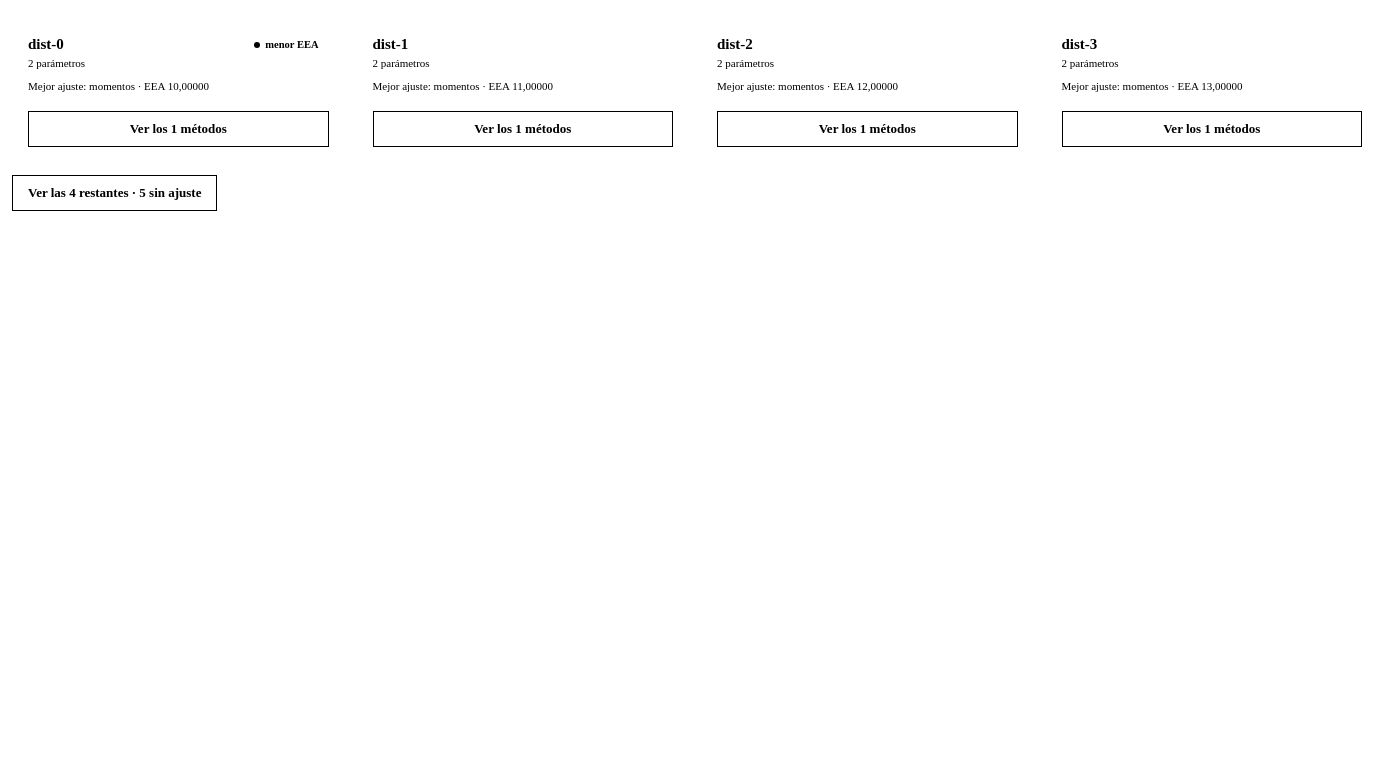
it: Etapa2RankingView — distribuciones sin ningún ajuste posible (F3) › el botón cuenta por separado las restantes y las sin ajuste, que van bajo su propio subtítulo
Check: the text "ln2p" is not shown
Click the button "Ver las 4 restantes · 5 sin ajuste" at [115, 193], box [12,175,218,211]
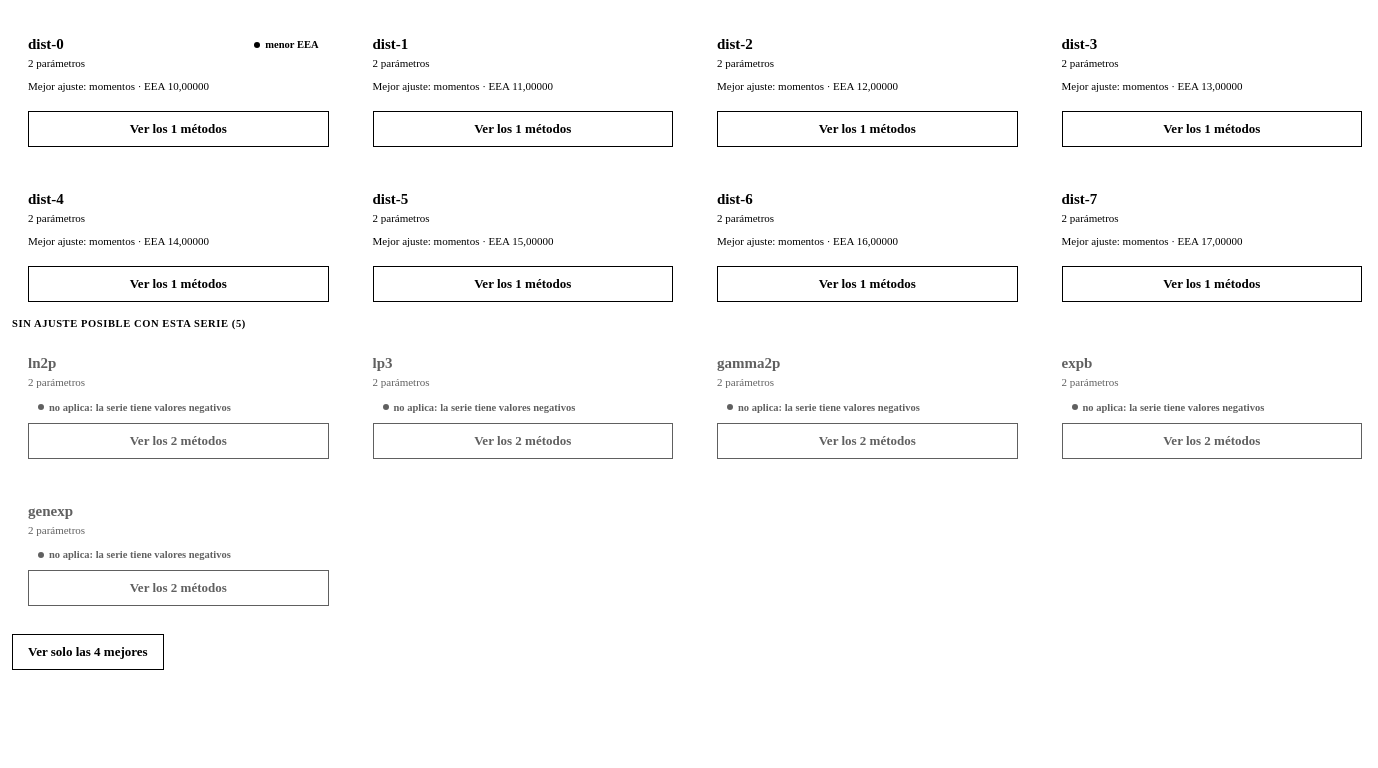
Check: the text "Sin ajuste posible con esta serie (5)" is shown, box [12,318,246,329]
Check: the heading "ln2p" is shown, box [28,355,56,372]
Check: the button "Ver solo las 4 mejores" is shown, box [12,634,164,670]
